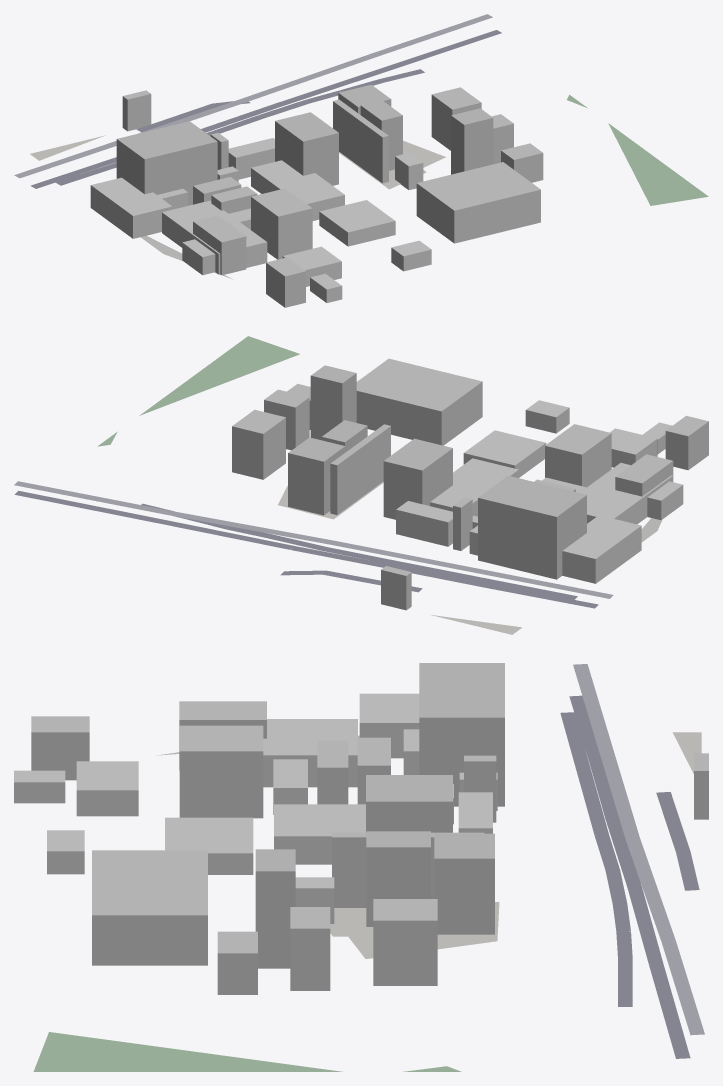
The model's file is 127_89_mid.glb.
The picture shows the model from 3 angles, top to bottom: view 1: azimuth 30°, elevation 25°; view 2: azimuth 150°, elevation 25°; view 3: azimuth 270°, elevation 25°; orthographic projection. The views are drawn at different scales.
Size of the model in its own units: 560 by 70.26 by 425.
